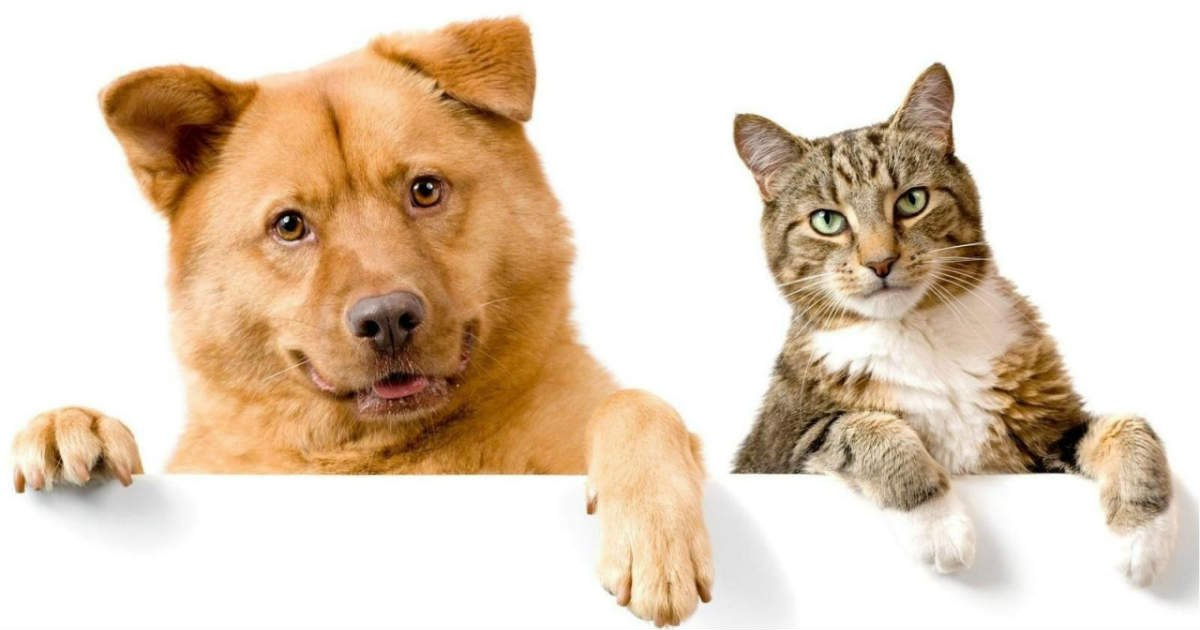cat: (732, 61, 1194, 588)
dog: (94, 13, 717, 626)
